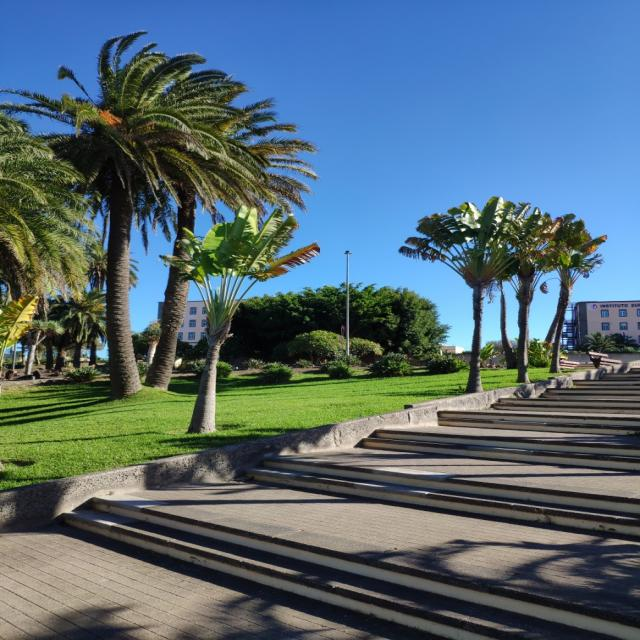Palm-Trees: (24, 45, 222, 400), (82, 67, 294, 385)
